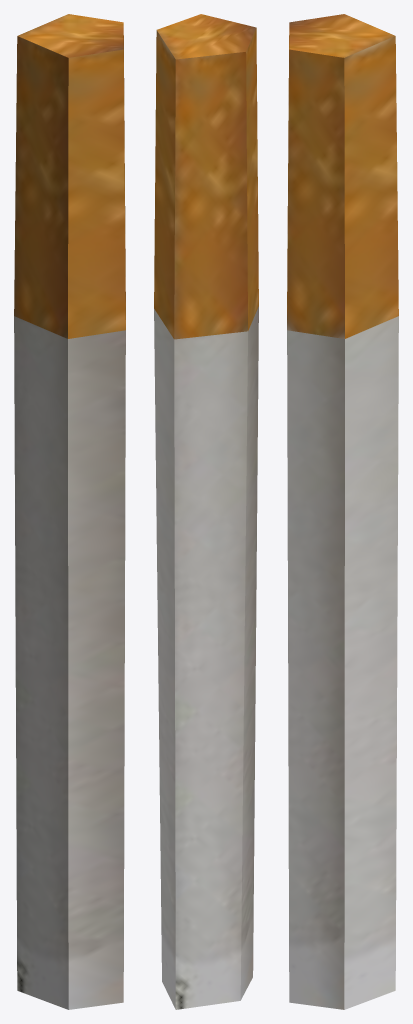
Rendered from cigara.glb.
3 renders of one model, left to right at view 1: azimuth 90°, elevation 25°; view 2: azimuth 150°, elevation 25°; view 3: azimuth 270°, elevation 25°, orthographic.
Visible parts, largest first — view 1: Cylinder; view 2: Cylinder; view 3: Cylinder.
Boxes of the visible parts, x1,y1,x2,y2 form: Cylinder: (14, 14, 125, 1009); Cylinder: (154, 14, 258, 1009); Cylinder: (287, 14, 398, 1009).
Size of the model in its own units: 0.4725 by 4.56 by 0.4841.
Materials: 1 (1 with a texture image).
